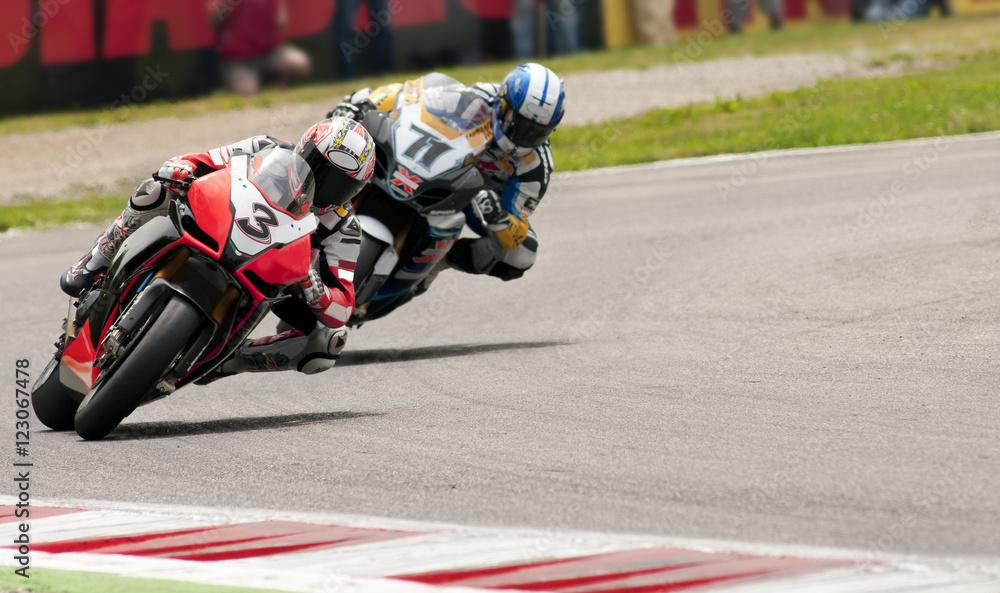helmet: (285, 115, 377, 216), (490, 61, 567, 159)
